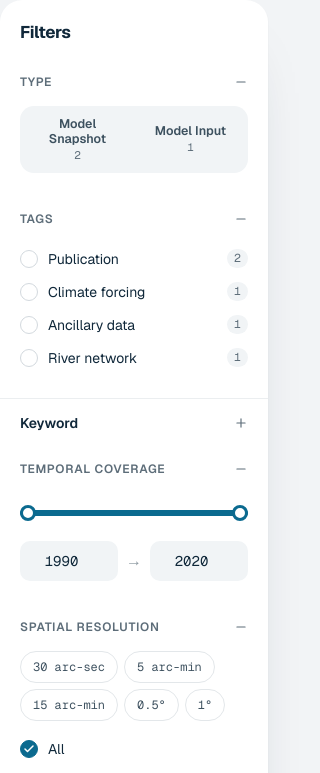
Test: CatalogueSidebar keyword group › sits right after Tags, folded when it has more than six options
What coordinates should you click on to do the following:
click the button "Keyword"
I would click on:
 (134, 422)
Its box is [16,398,252,446].
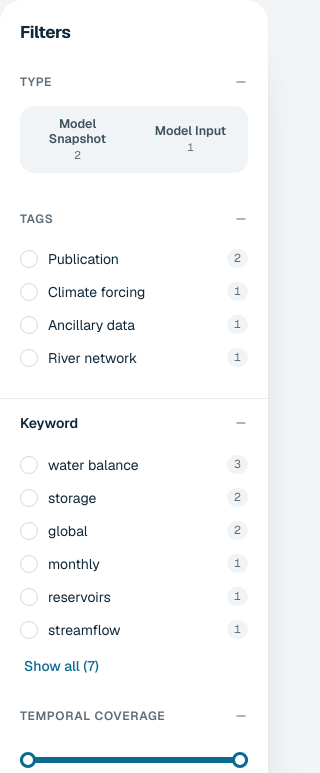
Expected: the checkbox labelled "soils" is not shown
Expected: the checkbox labelled "water balance 3" is shown, [20,455,248,474]
What coordinates should you click on to do the following:
click the button "Show all (7)"
I would click on:
 (61, 666)
Its box is [20,650,103,682].
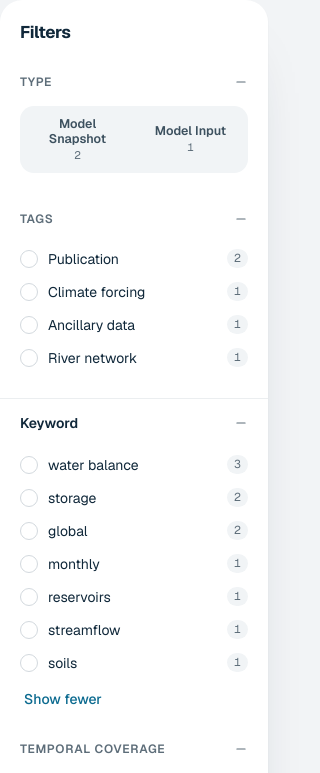
Expected: the checkbox labelled "soils 1" is shown, [20,653,248,672]
